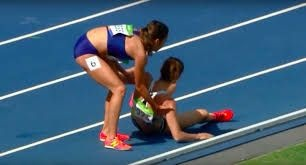falling: (127, 52, 238, 144)
